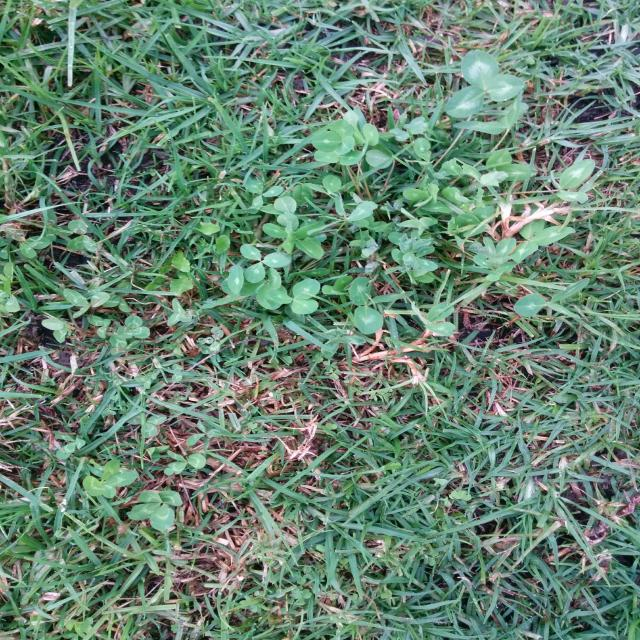Four Leaf Clover: (126, 490, 182, 531)
